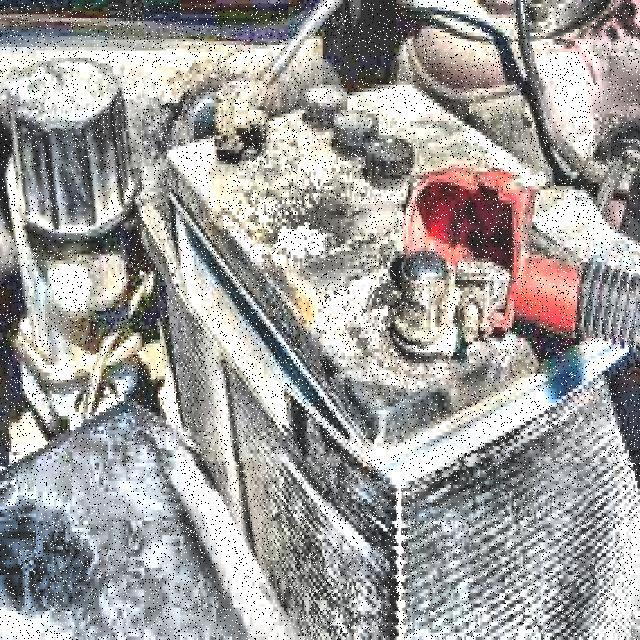B3: (132, 62, 640, 640)
